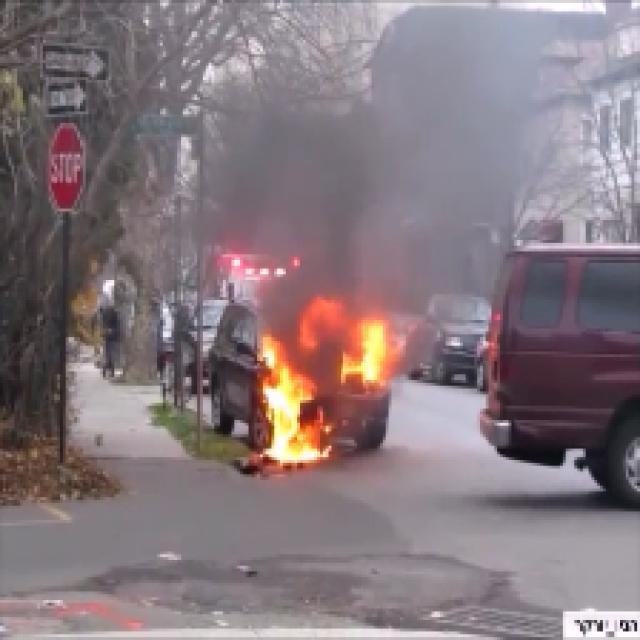Fire: (238, 58, 508, 294), (268, 318, 386, 473)
